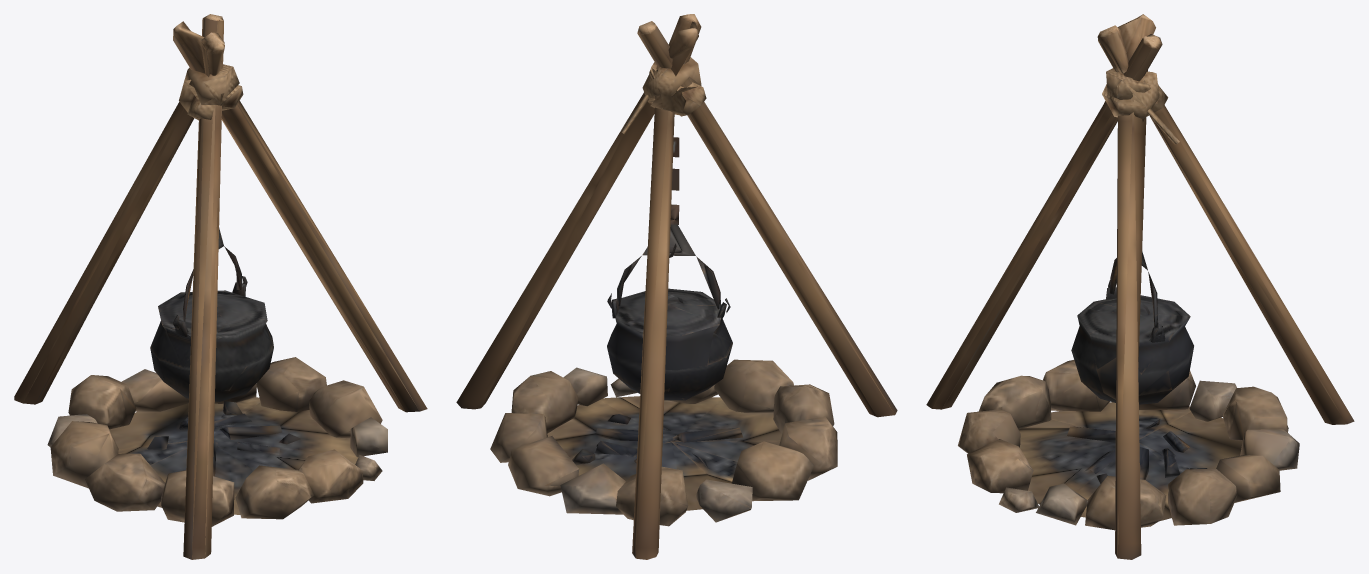
The model's file is prop_cookpot.glb.
The picture shows the model from 3 angles, left to right: view 1: azimuth 30°, elevation 25°; view 2: azimuth 150°, elevation 25°; view 3: azimuth 270°, elevation 25°; orthographic projection. The views are drawn at different scales.
Size of the model in its own units: 1.37 by 1.6 by 1.44.
Materials: 1 (1 with a texture image).
